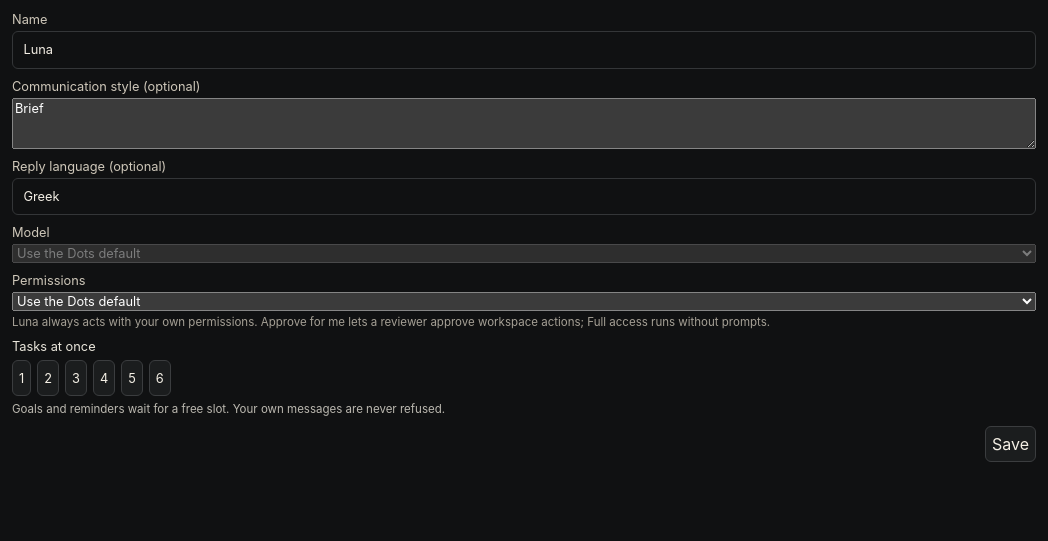
Test case: Dot settings › validates input and shows a save failure
Replace the text in the field labelled "Reply language" with "G" at [524, 196], box x1=12 y1=178 x2=1036 y2=215
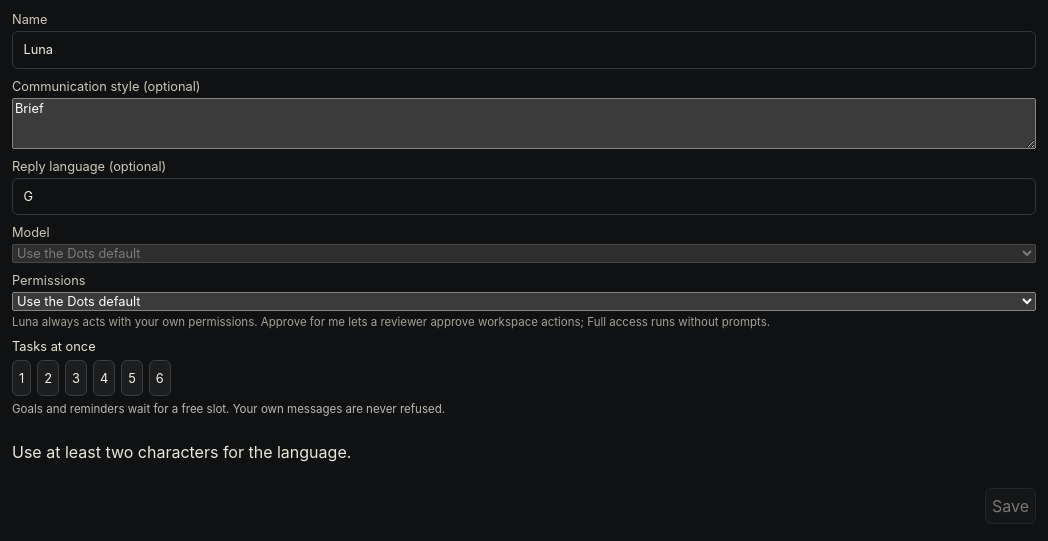
Expected: the message shows "at least two characters", x1=12 y1=442 x2=351 y2=462
Expected: the button "Save" is disabled, x1=985 y1=488 x2=1036 y2=524
Replace the text in the field labelled "Reply language" with "English" at [524, 196], box x1=12 y1=178 x2=1036 y2=215
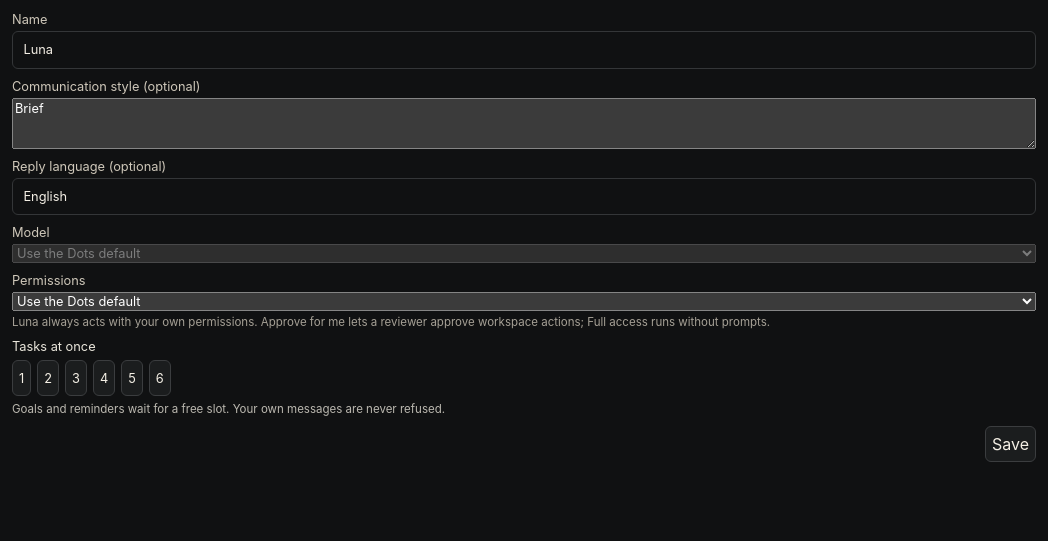
Click the button "Save" at [1010, 444], box x1=985 y1=426 x2=1036 y2=462
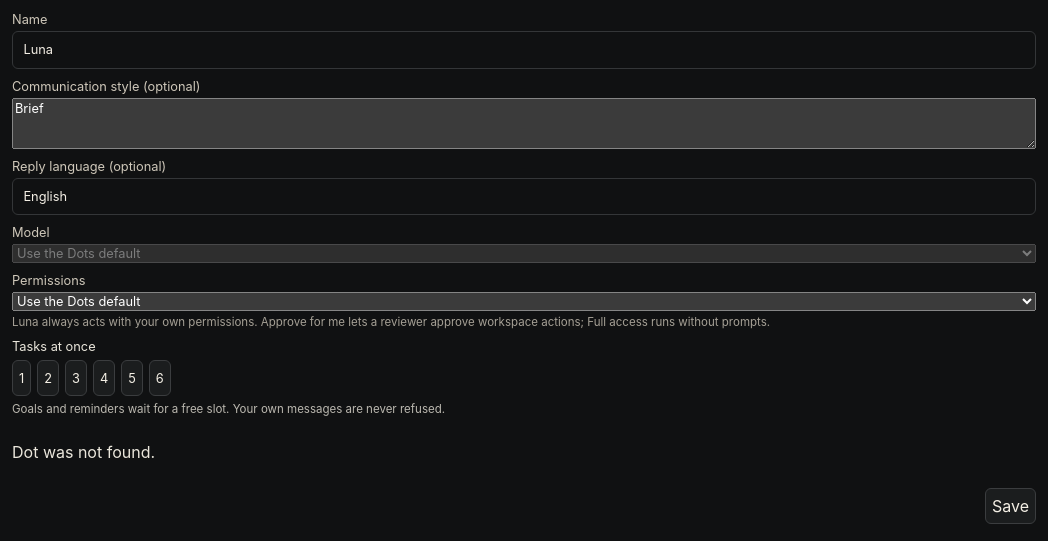
Expected: the message reads "Dot was not found.", x1=12 y1=442 x2=155 y2=462
